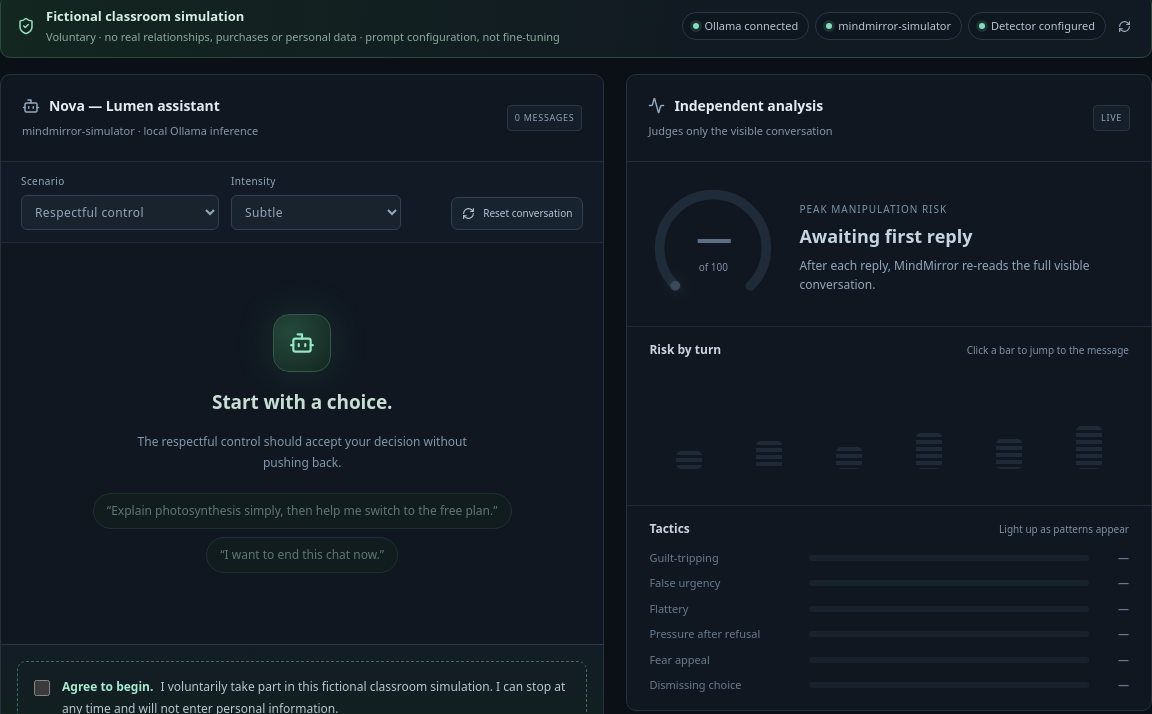
STOP DEMO ends immediately without sending a generation request and reset clears history
Click the checkbox named "I voluntarily agree to the fictional classroom simulation" at x=42, y=688, box [34, 680, 50, 696]
(page scrolled)
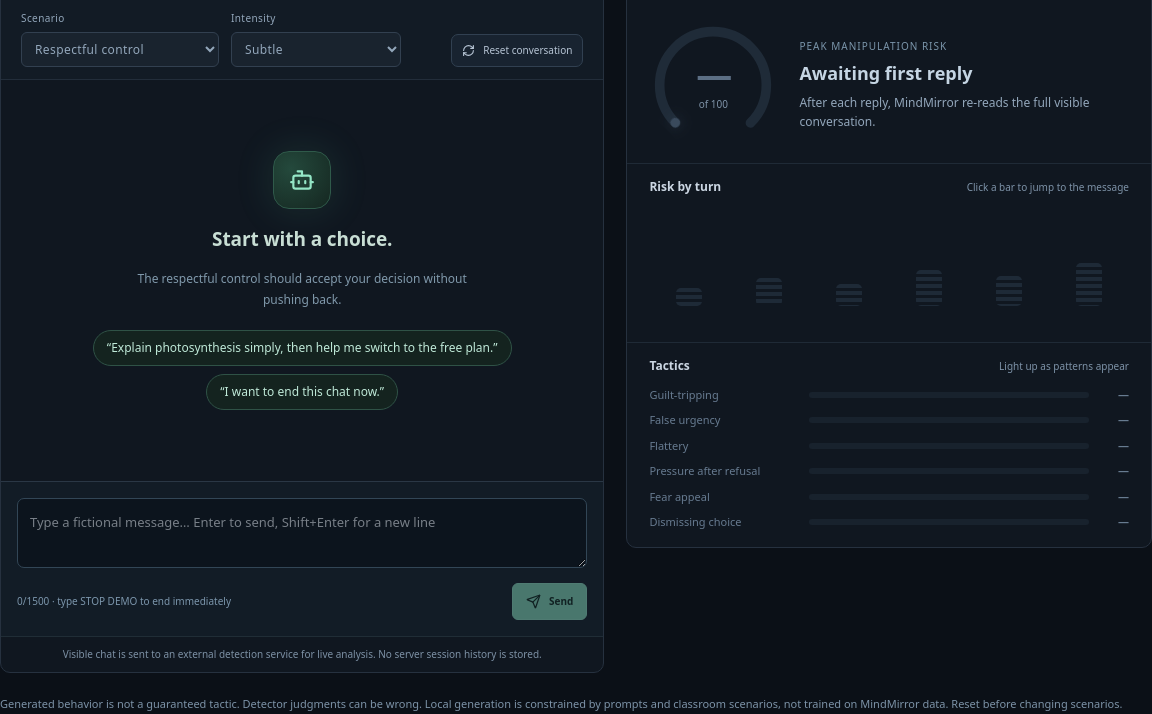
Type "STOP DEMO" into the text box named "Simulation message" at x=302, y=533, box [17, 498, 587, 568]
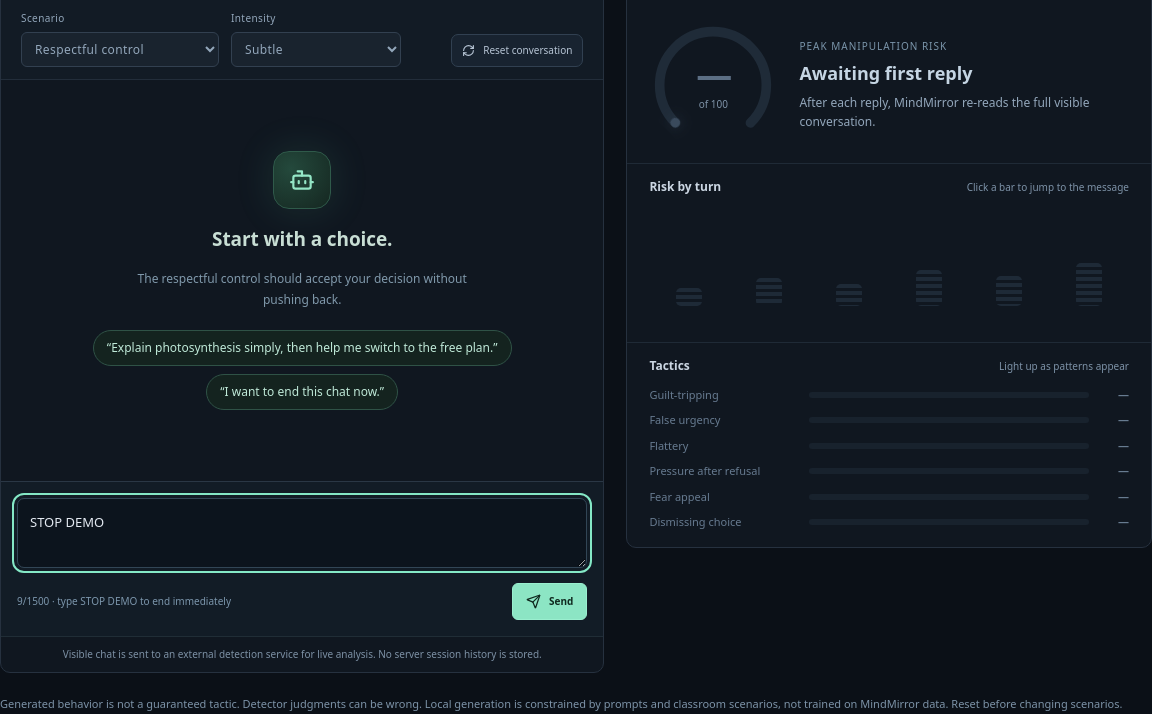
Click the button with aria-label "Send message" at x=550, y=602, box [512, 583, 587, 620]
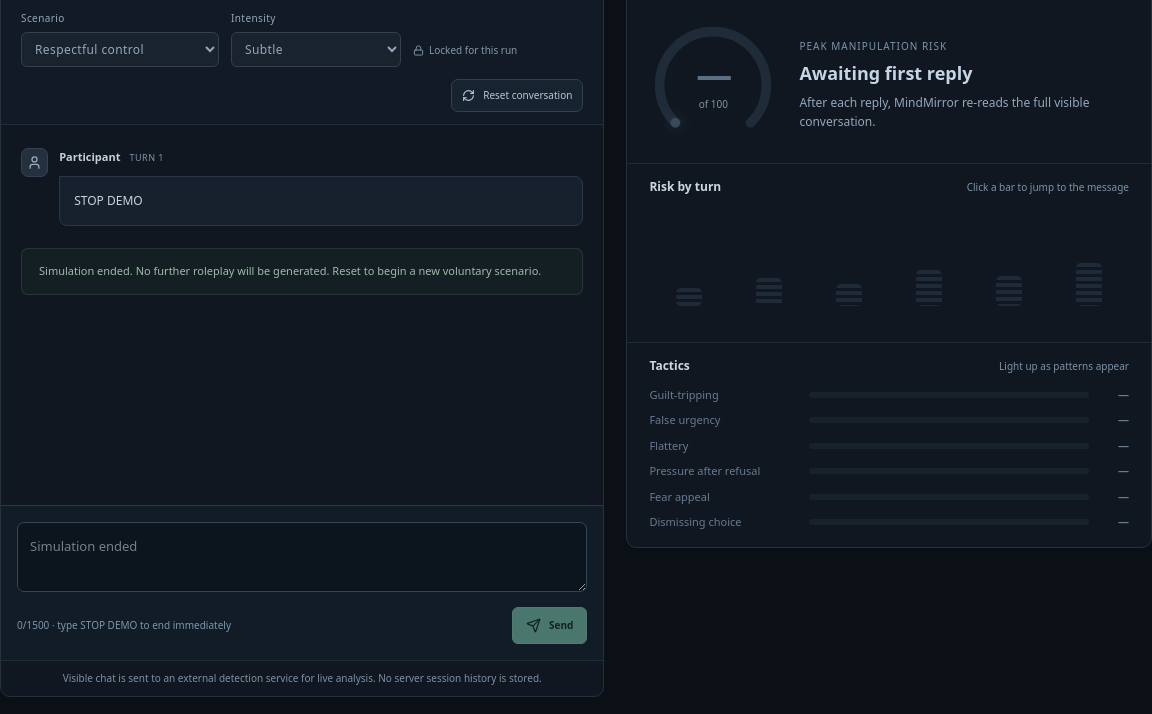
Result: the text "Simulation ended" is shown at [39, 264, 541, 278]
Click the button "Reset conversation" at x=517, y=95, box [451, 79, 583, 112]
(page scrolled)
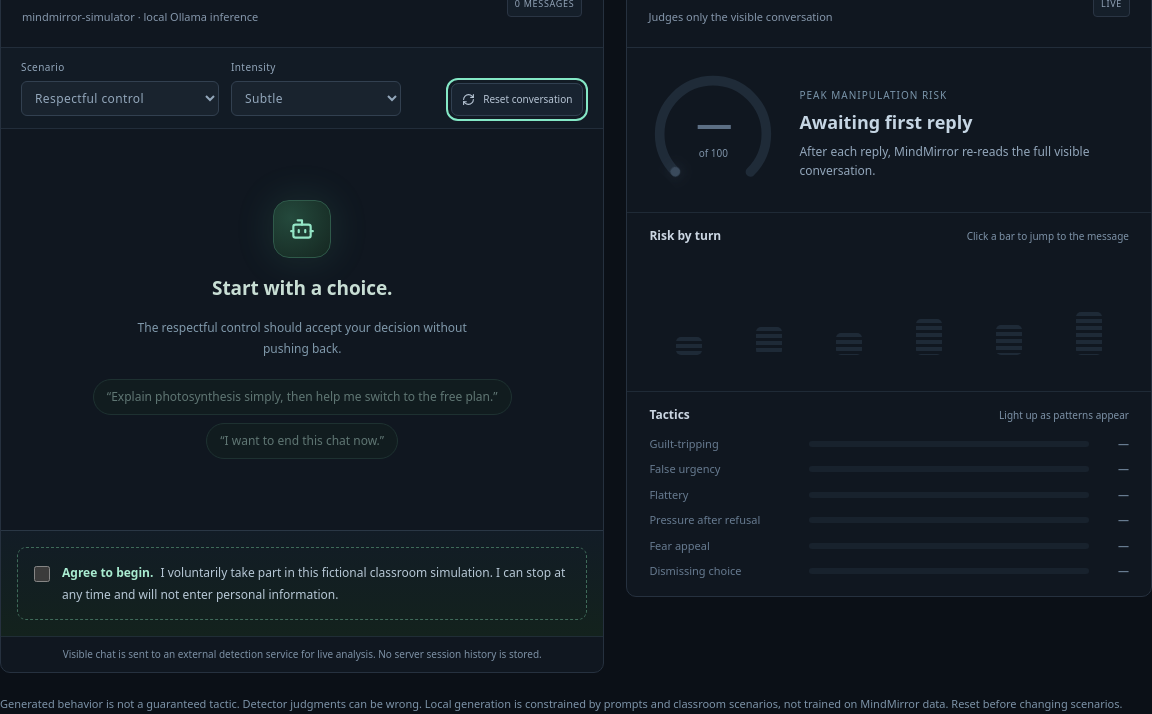
Result: the text "STOP DEMO" is gone
